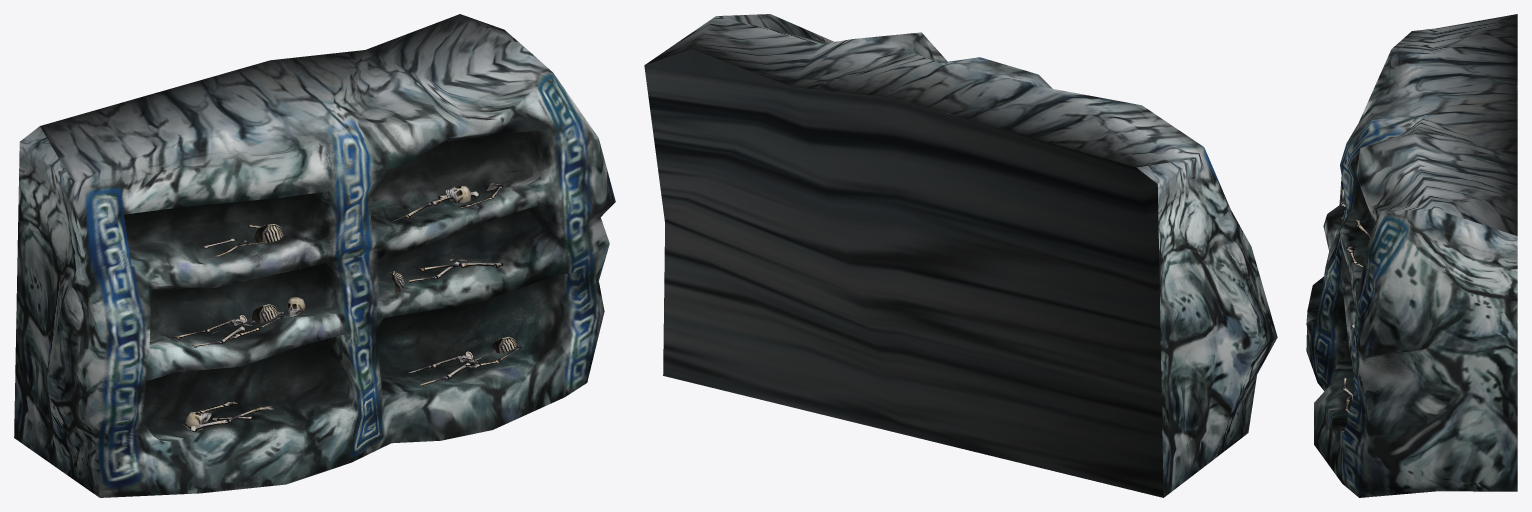
The model's file is STR_CatacombWall.FBX.
The picture shows the model from 3 angles, left to right: view 1: azimuth 30°, elevation 25°; view 2: azimuth 150°, elevation 25°; view 3: azimuth 270°, elevation 25°; orthographic projection. The views are drawn at different scales.
Parts seen in each view (by area): view 1: STR_CatacombWall; view 2: STR_CatacombWall; view 3: STR_CatacombWall.
Part boxes in pixels (left/top/right/bottom): STR_CatacombWall: left=14, top=14, right=615, bottom=497; STR_CatacombWall: left=644, top=14, right=1277, bottom=497; STR_CatacombWall: left=1306, top=14, right=1517, bottom=497.
Size of the model in its own units: 727 by 400 by 266.
